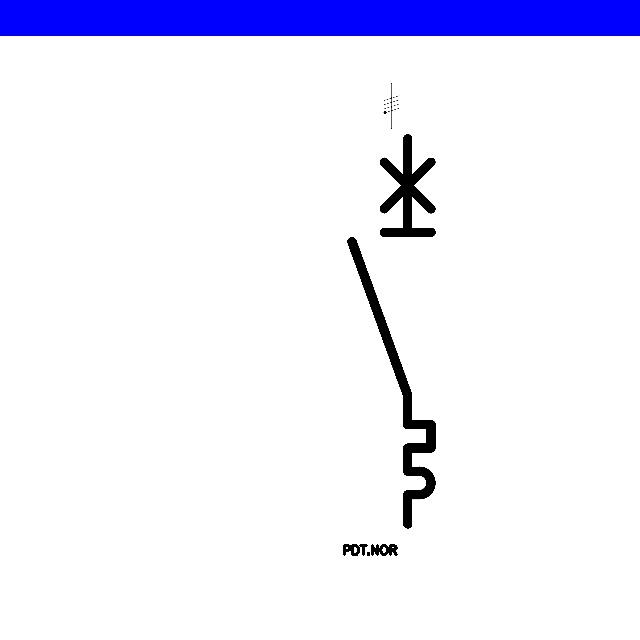interruptor_termomagnetico: (342, 128, 441, 534)
